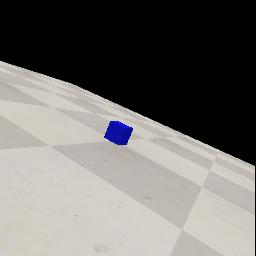box: (104, 121, 133, 145)
